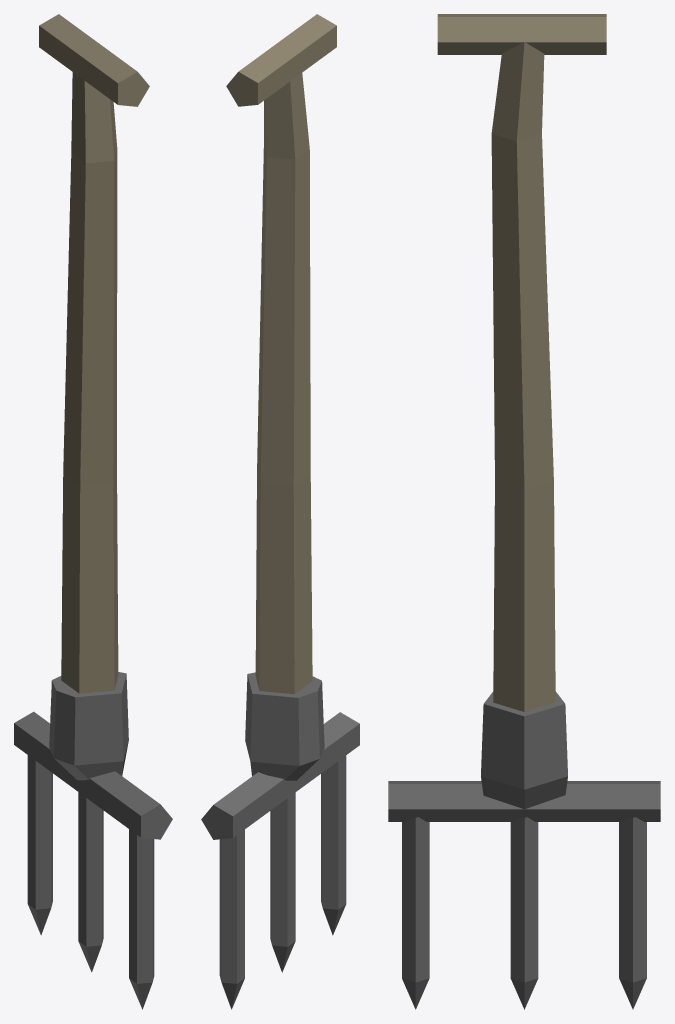
The model's file is PitchFork.fbx.
3 views of the same model, side by side, from view 1: azimuth 30°, elevation 25°; view 2: azimuth 150°, elevation 25°; view 3: azimuth 270°, elevation 25° (orthographic). The views are drawn at different scales.
Parts seen in each view (by area): view 1: Pitch_Fork; view 2: Pitch_Fork; view 3: Pitch_Fork.
Part boxes in pixels (x1,y1,x2,y2): Pitch_Fork: [14, 14, 172, 1009]; Pitch_Fork: [201, 14, 359, 1009]; Pitch_Fork: [388, 14, 660, 1009].
Size of the model in its own units: 0.9007 by 10.67 by 2.64.
